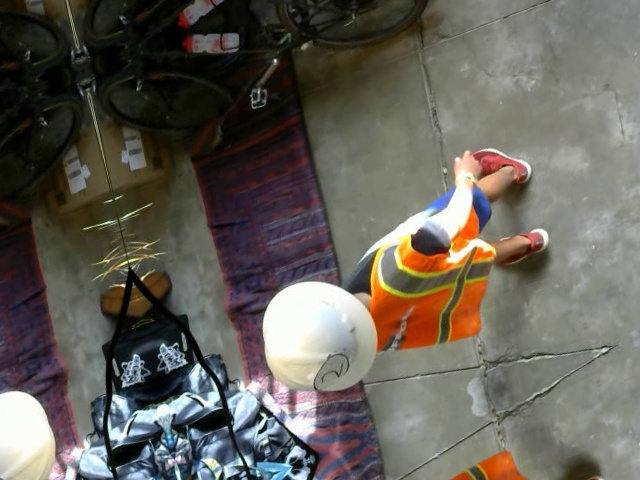two: (306, 349, 351, 391)
